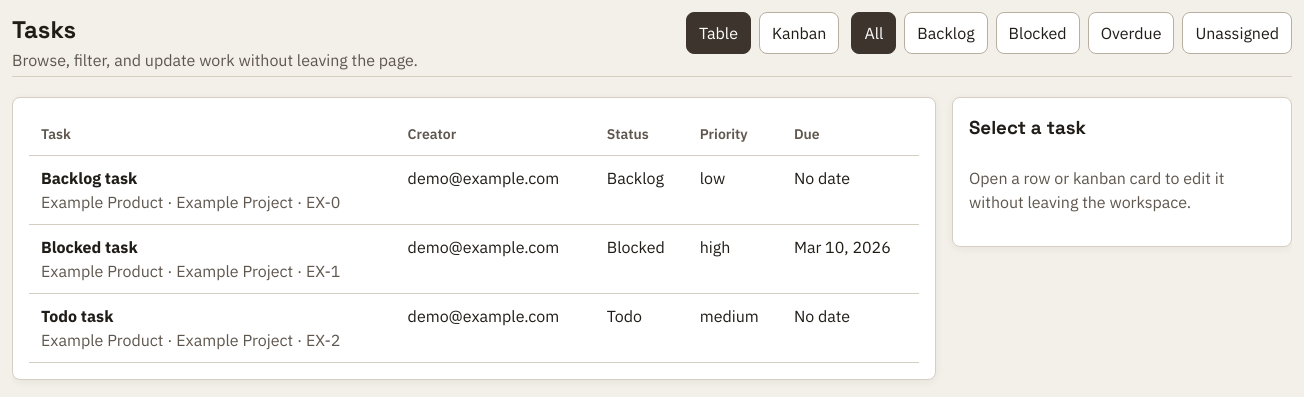
Test: TaskWorkspace › filters the table and can switch to kanban with backlog
Expected: the heading "Tasks" is shown, [12, 14, 76, 45]
Expected: the text "Blocked task" is shown, [41, 237, 138, 257]
Click the button "Blocked" at (1038, 33), box [996, 12, 1080, 54]
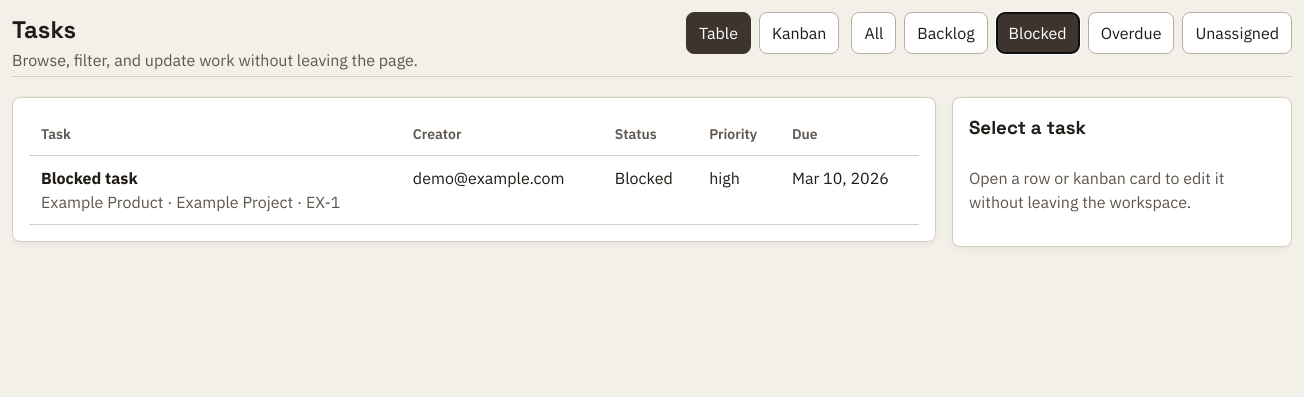
Expected: the text "Blocked task" is shown, [41, 168, 138, 188]
Result: the text "Todo task" is gone
Click the button "All" at (874, 33), box [852, 12, 896, 54]
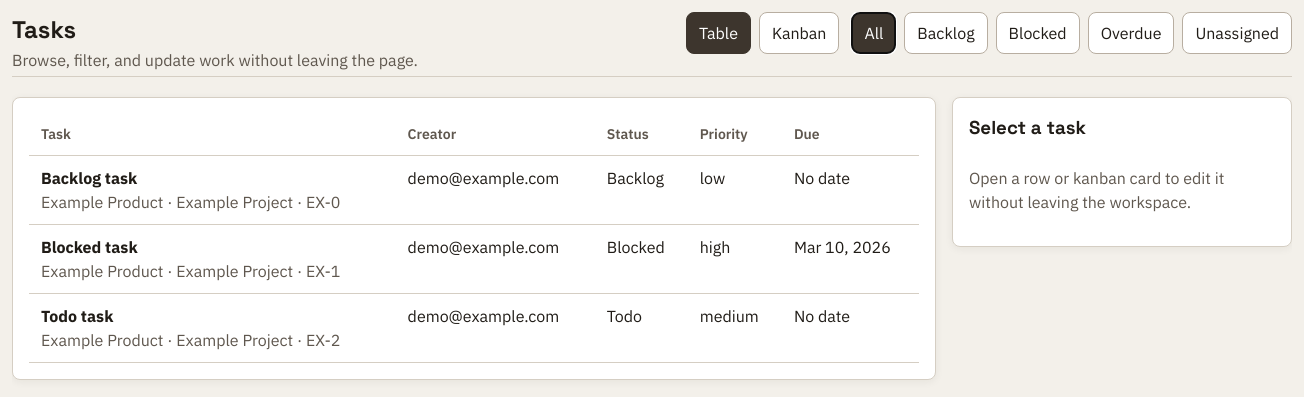
Click the button "Kanban" at (799, 33), box [759, 12, 840, 54]
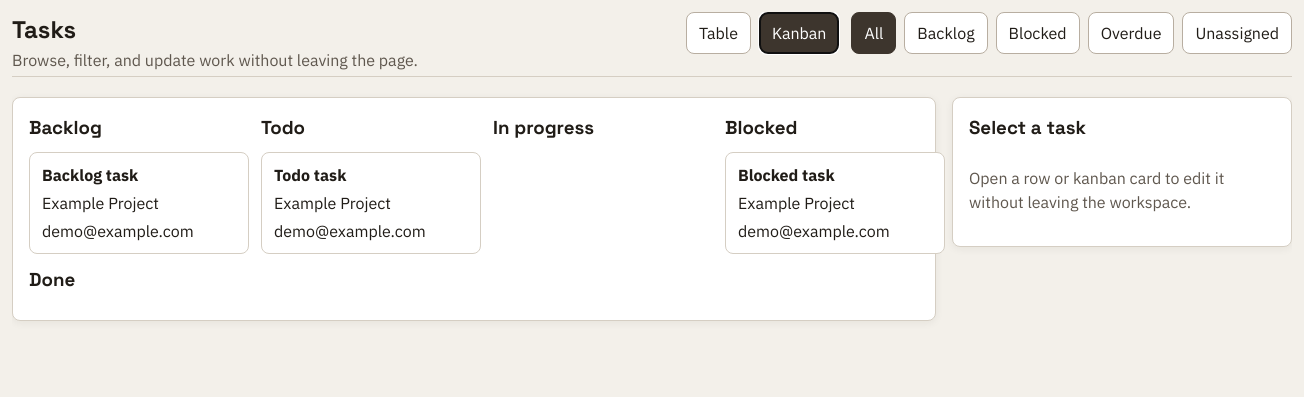
Result: the heading "Backlog" is shown at [29, 114, 102, 142]
Result: the heading "Todo" is shown at [261, 114, 305, 142]
Result: the text "Blocked task" is shown at [738, 165, 835, 185]
